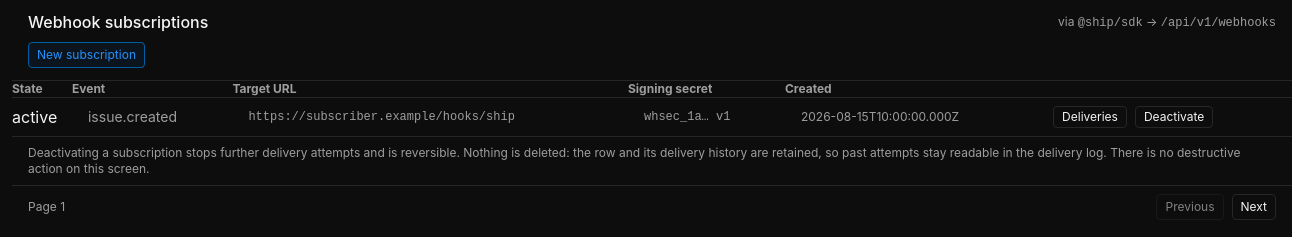
PF-671 — the list is `client.webhooks.list`, cursor-paginated › a null `next_cursor` disables Next; a cursor enables it and is sent back verbatim
Click the button with test id "subscriptions-next": (1254, 207) x1=1232 y1=194 x2=1276 y2=220
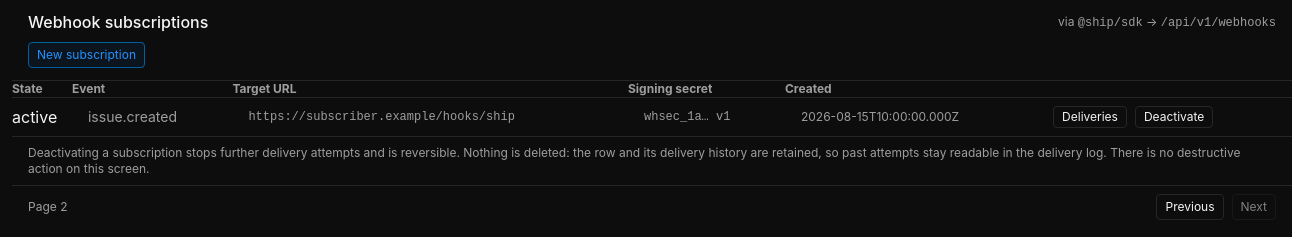
Check: the button with test id "subscriptions-next" is disabled, box x1=1232 y1=194 x2=1276 y2=220
